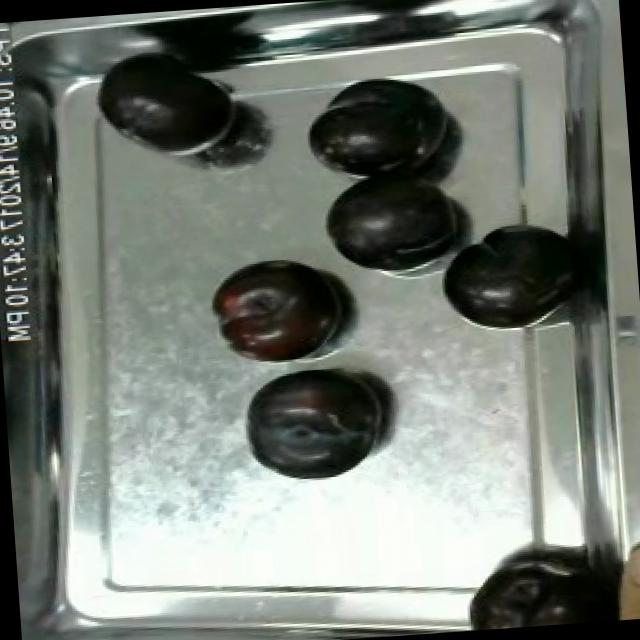Fruit: (82, 35, 246, 170), (236, 358, 398, 488), (312, 158, 468, 282), (298, 70, 457, 184), (204, 248, 352, 368), (428, 217, 569, 334), (460, 562, 620, 631), (595, 527, 640, 621)
